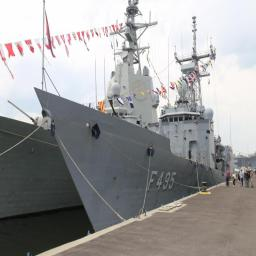Fragata: (33, 1, 232, 223)
